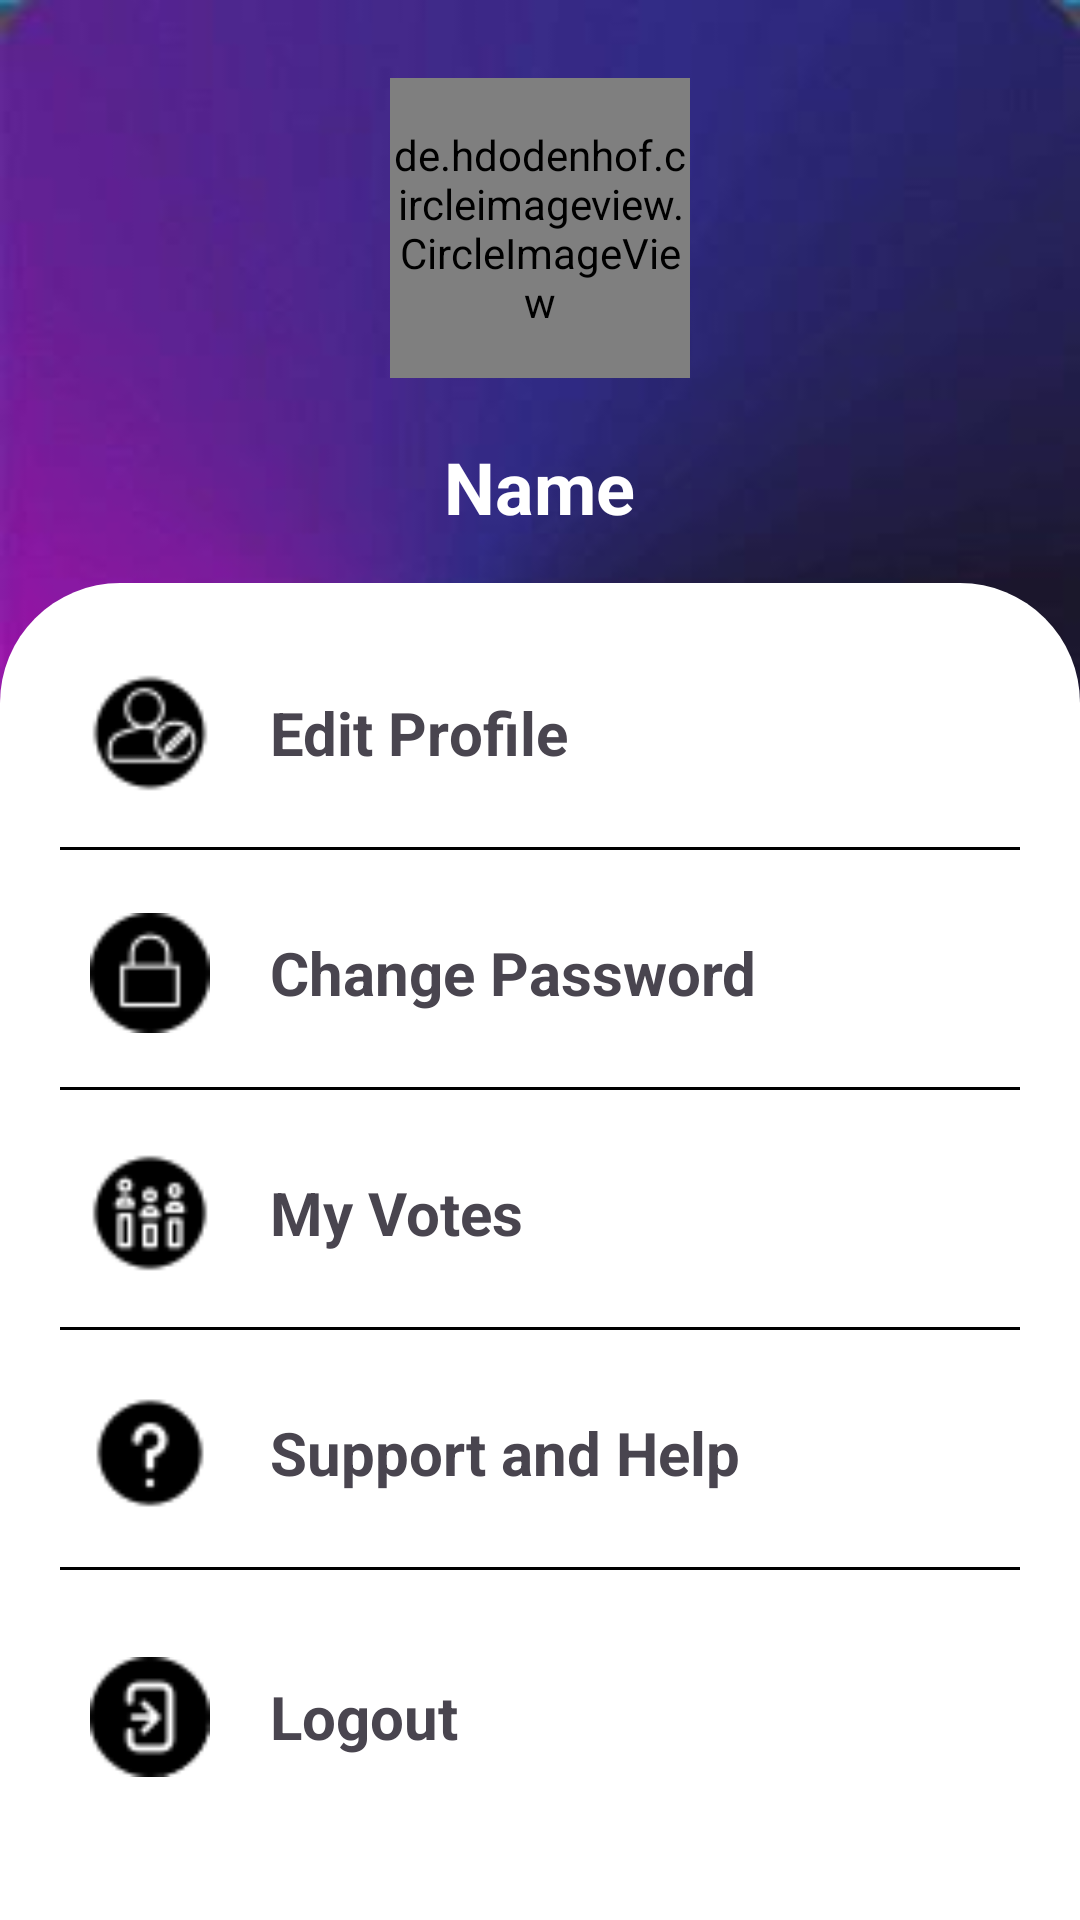

Icon click points for this 1080px x 1920px phone screenshot, format (x=x, y=y):
lock: (x=150, y=973)
log: (x=150, y=1717)
voting: (x=150, y=1213)
